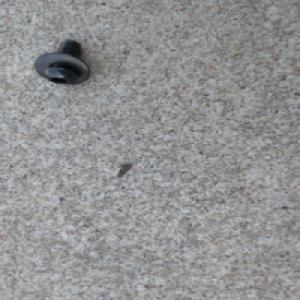BoltWasher: (32, 39, 92, 86)
